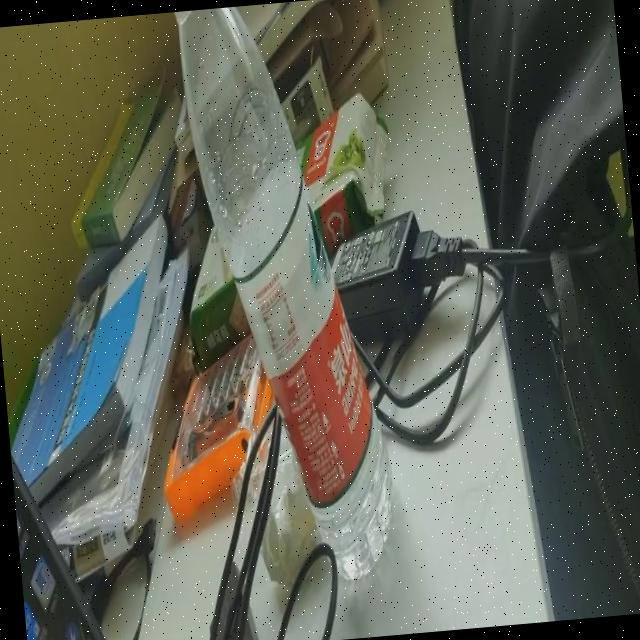bottle: (169, 0, 400, 597)
label: (229, 168, 384, 544)
